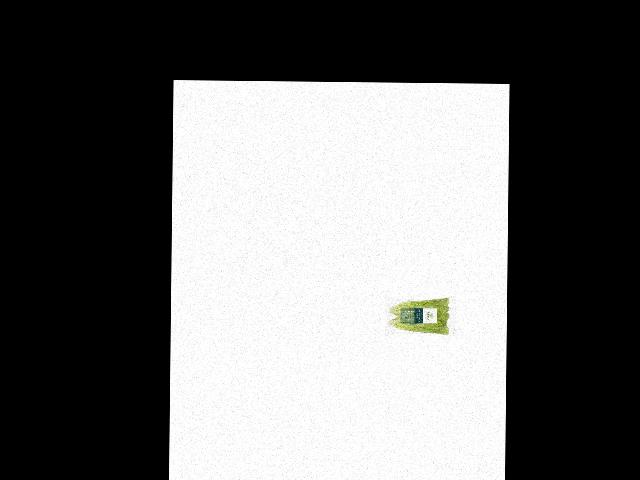lettuce: (387, 297, 451, 339)
